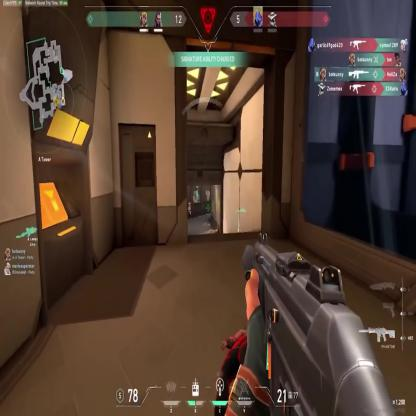enemy: (186, 200, 192, 223)
enemy_head: (188, 201, 191, 206)
